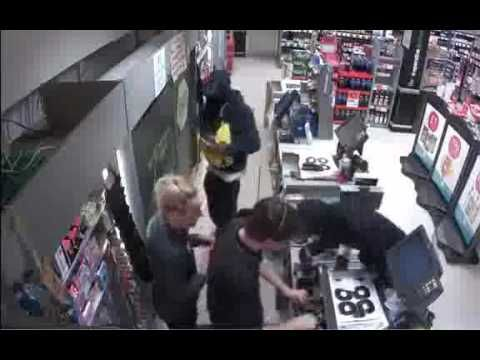gun: (300, 232, 346, 274)
